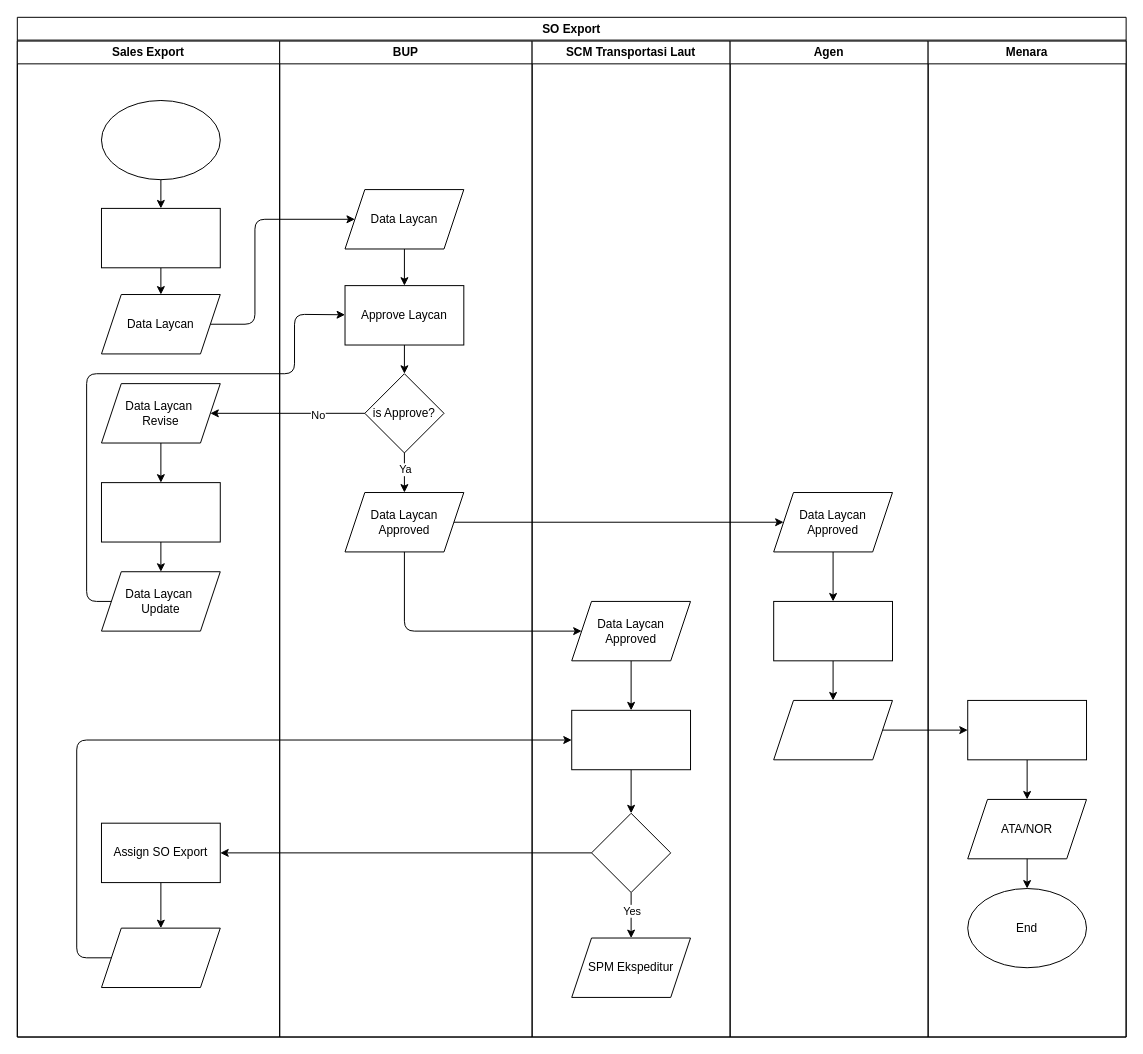
The diagram is 1143 pixels wide and 1054 high, and some of its shapes have lost their labels. The centre of each missing label's shape, as x and y in pixels:
"Create Laycan" belongs at pixel 160 237.
"Data Laycan SO" belongs at pixel 160 957.
"Entry Ekspeditur & PO-STO" belongs at pixel 631 739.
"Is there a SO?" belongs at pixel 631 852.
"PKKB" belongs at pixel 832 729.
"Start" belongs at pixel 160 139.
"Update ATA/NOR" belongs at pixel 1027 729.
"Update Data" belongs at pixel 160 512.
"Update PKKB" belongs at pixel 832 630.
